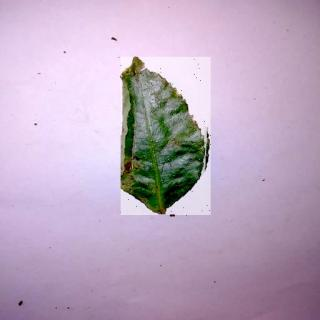Bird Eye Spot: (122, 58, 212, 217)
